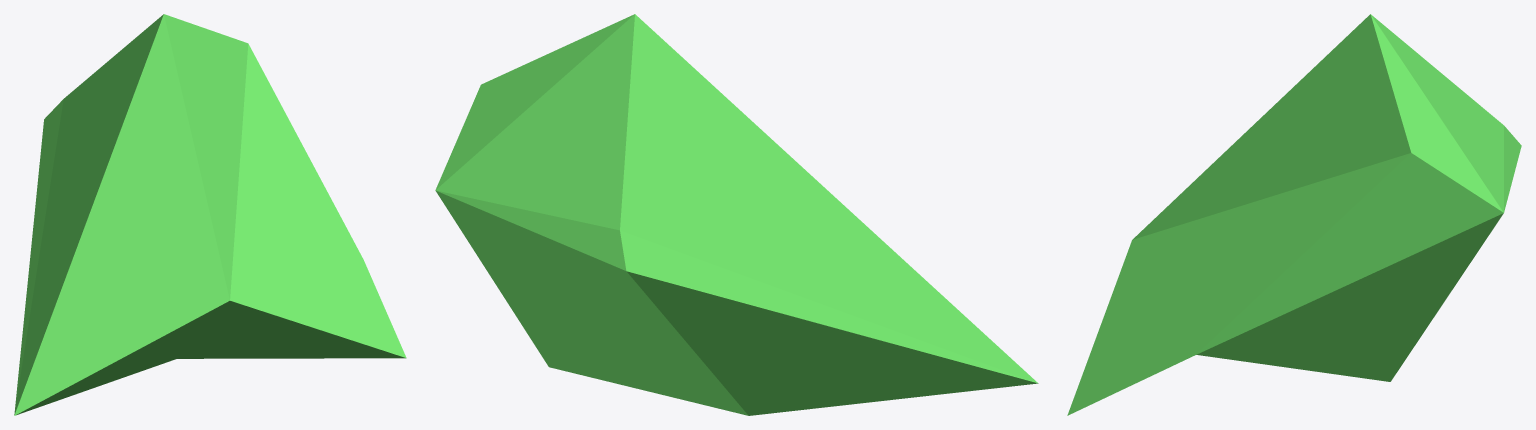
The model's file is Testhold.glb.
The picture shows the model from 3 angles, left to right: view 1: azimuth 30°, elevation 25°; view 2: azimuth 150°, elevation 25°; view 3: azimuth 270°, elevation 25°; orthographic projection. The views are drawn at different scales.
Parts seen in each view (by area): view 1: Cube; view 2: Cube; view 3: Cube.
Boxes of the visible parts, x1,y1,x2,y2 form: Cube: [14, 14, 406, 415]; Cube: [435, 14, 1038, 415]; Cube: [1067, 14, 1521, 415].
Bounding box in the file's own units: 4.64 × 3.57 × 4.28.
